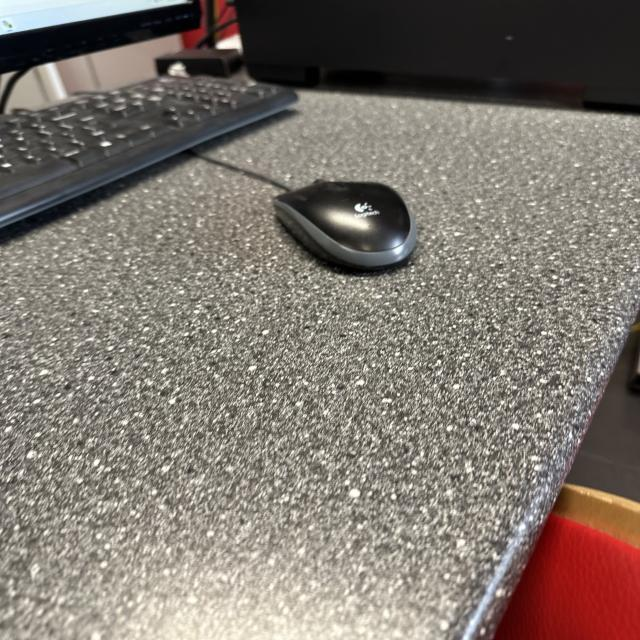mysz: (269, 173, 419, 278)
